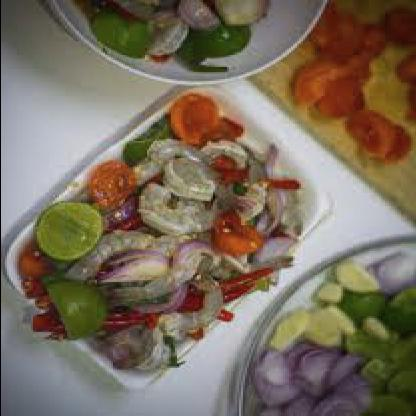Yum: (2, 91, 312, 380), (36, 0, 300, 69)
